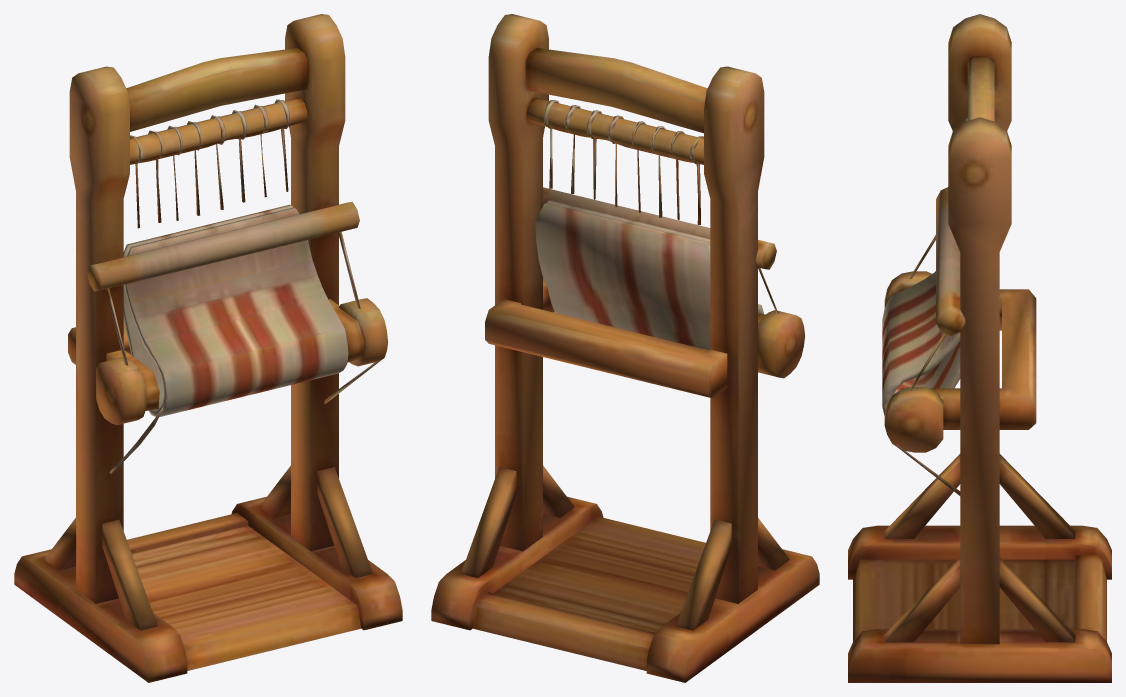
The model's file is wyn_furn_home_loom.glb.
3 renders of one model, left to right at view 1: azimuth 30°, elevation 25°; view 2: azimuth 150°, elevation 25°; view 3: azimuth 270°, elevation 25°, orthographic.
Parts seen in each view (by area): view 1: tripo_node_f7d693bd-88d2-44eb-b4d1-4cbef60c75e6; view 2: tripo_node_f7d693bd-88d2-44eb-b4d1-4cbef60c75e6; view 3: tripo_node_f7d693bd-88d2-44eb-b4d1-4cbef60c75e6.
Boxes of the visible parts, bbox=[...] form: tripo_node_f7d693bd-88d2-44eb-b4d1-4cbef60c75e6: bbox=[14, 14, 402, 682]; tripo_node_f7d693bd-88d2-44eb-b4d1-4cbef60c75e6: bbox=[431, 14, 819, 682]; tripo_node_f7d693bd-88d2-44eb-b4d1-4cbef60c75e6: bbox=[848, 14, 1111, 682].
Bounding box in the file's own units: 0.6447 × 1.3 × 0.5661.
Materials: 1 (1 with a texture image).
